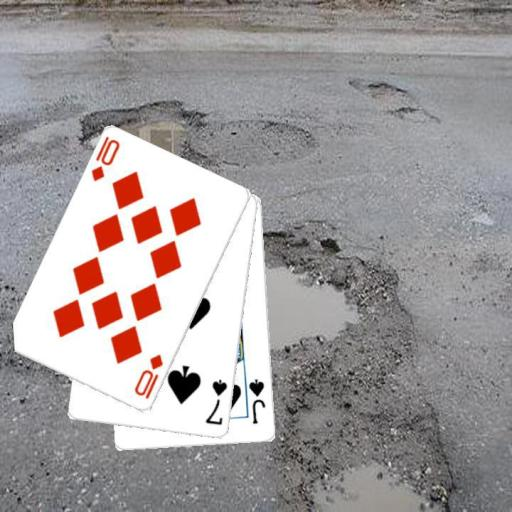10D: (131, 351, 165, 401), (88, 133, 122, 183)
7S: (203, 377, 229, 427)
JS: (246, 376, 267, 425)
